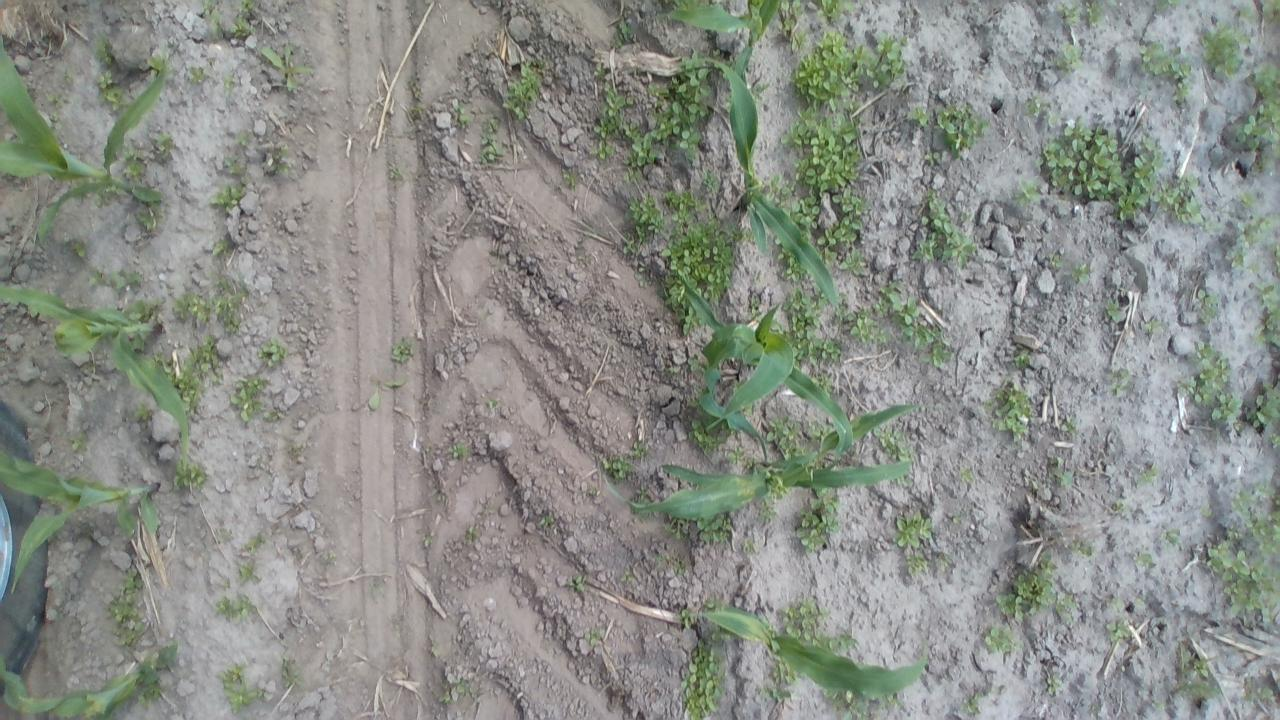Maize: (674, 57, 841, 338), (602, 403, 918, 519), (0, 34, 167, 246), (680, 270, 854, 472), (0, 285, 188, 469), (0, 452, 159, 596), (702, 604, 928, 694), (658, 0, 779, 75), (0, 658, 143, 720)
Weeds: (1042, 115, 1164, 222), (794, 31, 906, 112), (663, 219, 733, 336), (778, 108, 861, 192), (654, 55, 710, 152), (874, 278, 938, 344), (1224, 549, 1280, 622), (1182, 358, 1244, 421), (911, 204, 974, 266), (784, 600, 858, 652), (1238, 63, 1280, 154), (817, 190, 870, 260), (999, 558, 1060, 618), (795, 486, 842, 554), (682, 642, 722, 720), (594, 81, 632, 159), (107, 574, 149, 644), (985, 379, 1032, 441), (1200, 23, 1250, 77), (937, 106, 990, 156), (784, 290, 822, 358), (622, 192, 664, 253), (262, 45, 314, 94), (1173, 646, 1219, 700), (502, 63, 540, 120), (1164, 175, 1200, 224), (231, 378, 269, 422), (778, 0, 808, 53), (845, 305, 886, 343), (1255, 282, 1280, 343), (211, 291, 248, 330), (895, 510, 931, 550), (1247, 512, 1280, 554), (871, 426, 910, 460), (1254, 379, 1280, 429), (981, 624, 1024, 654), (173, 373, 204, 413), (176, 294, 214, 326), (786, 193, 820, 228), (664, 189, 702, 219), (217, 594, 257, 621), (628, 134, 655, 174), (1140, 41, 1172, 74), (368, 380, 402, 411), (767, 416, 802, 446), (189, 335, 217, 371), (689, 418, 718, 448), (839, 249, 870, 277), (815, 335, 848, 361), (210, 183, 244, 208), (256, 338, 286, 366), (697, 516, 727, 543), (1196, 288, 1220, 321), (139, 662, 162, 696), (175, 463, 206, 488), (921, 341, 952, 366), (1207, 538, 1230, 570), (218, 662, 245, 688), (604, 457, 634, 480), (1243, 678, 1273, 701), (1052, 44, 1082, 66), (228, 690, 260, 710), (822, 0, 851, 22), (392, 338, 416, 364), (128, 299, 156, 321), (1059, 1, 1081, 29), (239, 559, 262, 585), (106, 87, 132, 110), (772, 658, 796, 682), (156, 644, 178, 670), (1106, 618, 1131, 640), (273, 146, 290, 178), (1110, 369, 1132, 393), (136, 210, 160, 232), (614, 18, 632, 47), (1016, 180, 1036, 206), (779, 260, 803, 281), (842, 701, 868, 720), (1085, 1, 1106, 24), (1104, 300, 1124, 324), (1230, 487, 1250, 510), (814, 372, 834, 394), (1194, 340, 1217, 358), (759, 688, 793, 700), (484, 136, 501, 160), (96, 39, 112, 64), (134, 402, 155, 421), (812, 422, 835, 439), (906, 558, 930, 574), (732, 222, 752, 241), (244, 532, 263, 552), (778, 445, 807, 458), (1176, 82, 1192, 105), (48, 92, 71, 108), (232, 18, 252, 36), (126, 160, 146, 178), (1172, 61, 1194, 77), (906, 107, 926, 124), (1022, 98, 1039, 118), (1263, 0, 1280, 20), (1253, 480, 1274, 496), (760, 500, 776, 521), (1269, 244, 1280, 274), (146, 55, 168, 70), (282, 670, 300, 688), (668, 518, 686, 536), (702, 170, 718, 190), (966, 694, 980, 716), (920, 190, 938, 207), (214, 238, 232, 255), (1141, 316, 1160, 332), (1072, 263, 1088, 282), (562, 167, 578, 186), (622, 122, 641, 138), (68, 434, 86, 450), (935, 552, 953, 568), (1194, 658, 1210, 676), (568, 575, 588, 589), (1226, 523, 1242, 539), (1110, 594, 1126, 610), (96, 72, 112, 88), (1259, 215, 1276, 230), (225, 159, 242, 174), (88, 267, 101, 286), (1047, 113, 1063, 128), (129, 271, 144, 287), (453, 443, 468, 459), (484, 118, 499, 134), (368, 582, 386, 595), (112, 272, 125, 290), (217, 271, 230, 289), (235, 0, 254, 12), (1241, 192, 1256, 207), (1271, 484, 1280, 509), (1246, 224, 1260, 240), (1062, 592, 1076, 608), (1016, 352, 1030, 368), (1144, 466, 1160, 480), (584, 631, 600, 645), (1230, 250, 1243, 267), (1137, 552, 1155, 564), (960, 466, 974, 481), (1165, 529, 1180, 543), (679, 609, 690, 628), (593, 62, 606, 78), (1154, 0, 1180, 8), (212, 10, 222, 30), (632, 442, 646, 456), (454, 106, 466, 122), (237, 131, 251, 144), (388, 164, 400, 179), (410, 78, 420, 96), (74, 242, 86, 257), (730, 447, 741, 463), (1046, 677, 1062, 688), (189, 68, 202, 81), (466, 527, 480, 539), (410, 106, 422, 120), (161, 132, 173, 146), (224, 76, 236, 89), (620, 571, 634, 582), (538, 516, 552, 527), (637, 486, 648, 500), (744, 537, 754, 552), (1240, 3, 1250, 18), (1062, 472, 1074, 484), (286, 446, 300, 456), (1200, 504, 1212, 515), (270, 408, 282, 419), (674, 561, 685, 573), (456, 680, 466, 693), (439, 692, 452, 702), (1050, 254, 1060, 267), (824, 690, 840, 698), (1271, 434, 1280, 448), (222, 529, 234, 539), (923, 152, 938, 160), (1136, 600, 1146, 612), (1072, 542, 1084, 552), (105, 187, 119, 195), (688, 359, 698, 370), (669, 364, 680, 374), (125, 150, 137, 159), (62, 68, 70, 80), (589, 487, 600, 495), (1113, 502, 1124, 510), (654, 554, 666, 561), (1248, 263, 1260, 270), (202, 0, 208, 13), (488, 399, 497, 407), (1067, 422, 1076, 430), (50, 114, 59, 122), (1086, 548, 1094, 556), (423, 536, 432, 542), (331, 552, 336, 558)
